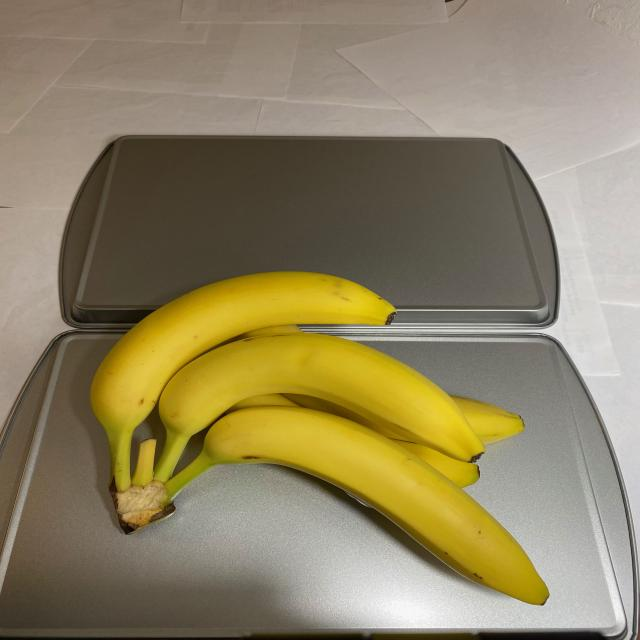banana: (86, 266, 555, 616)
